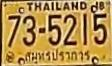1: (82, 13, 86, 45)
2: (63, 13, 76, 45)
3: (22, 15, 35, 45)
5: (93, 13, 106, 44), (48, 14, 60, 45)
7: (8, 14, 20, 46)
SPK: (24, 49, 91, 63)
